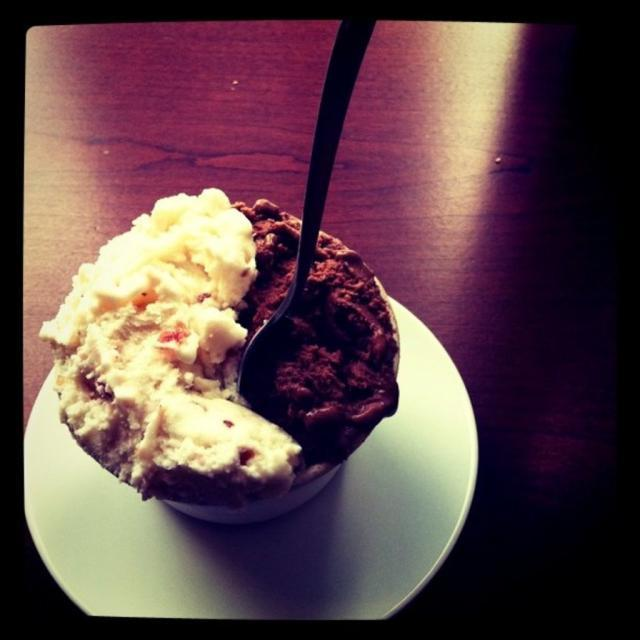Ice cream: (35, 196, 402, 548)
